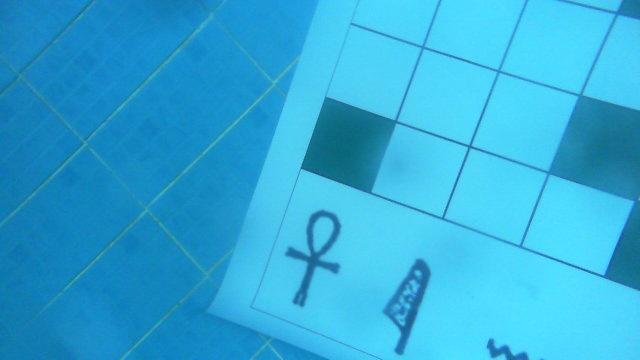Ankh: (283, 209, 348, 312)
Reed: (381, 257, 434, 357)
